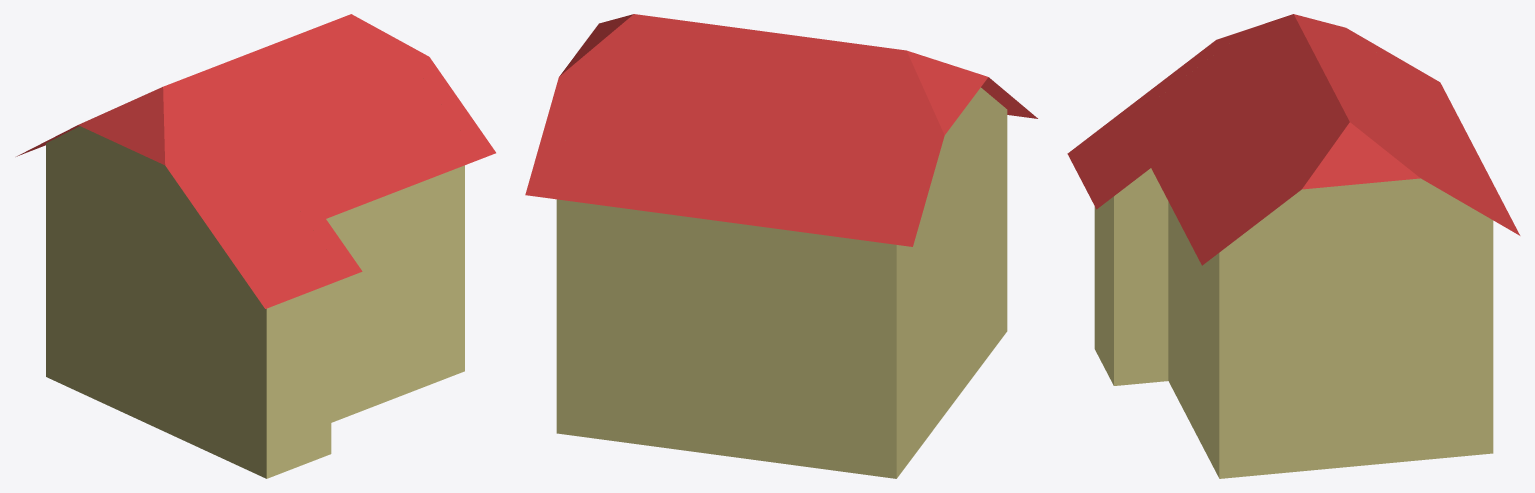
3 renders of one model, left to right at view 1: azimuth 30°, elevation 25°; view 2: azimuth 150°, elevation 25°; view 3: azimuth 270°, elevation 25°, orthographic. The views are drawn at different scales.
Size of the model in its own units: 14.23 by 14.85 by 12.
